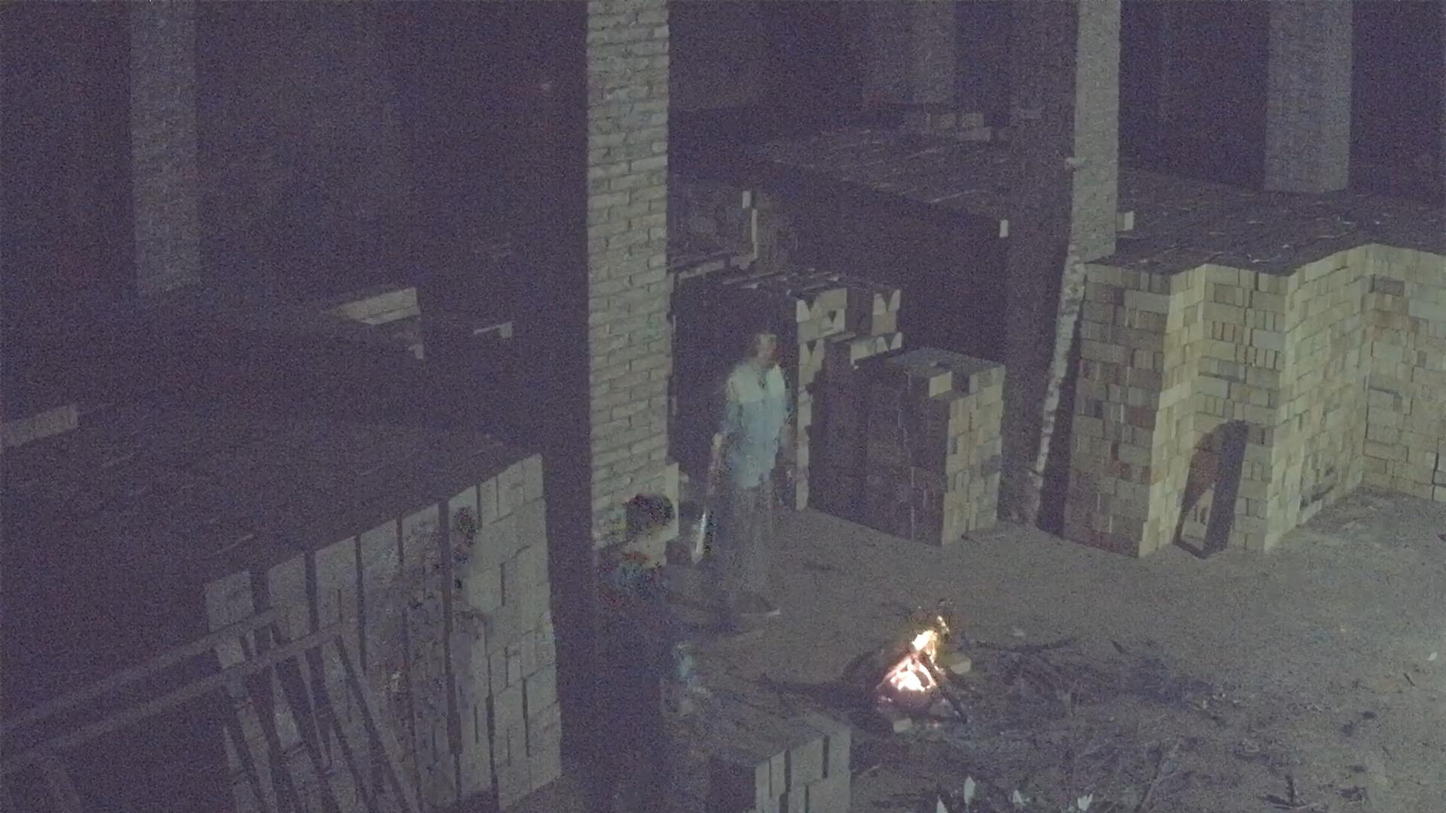fire: (878, 628, 945, 696), (883, 651, 937, 696)
